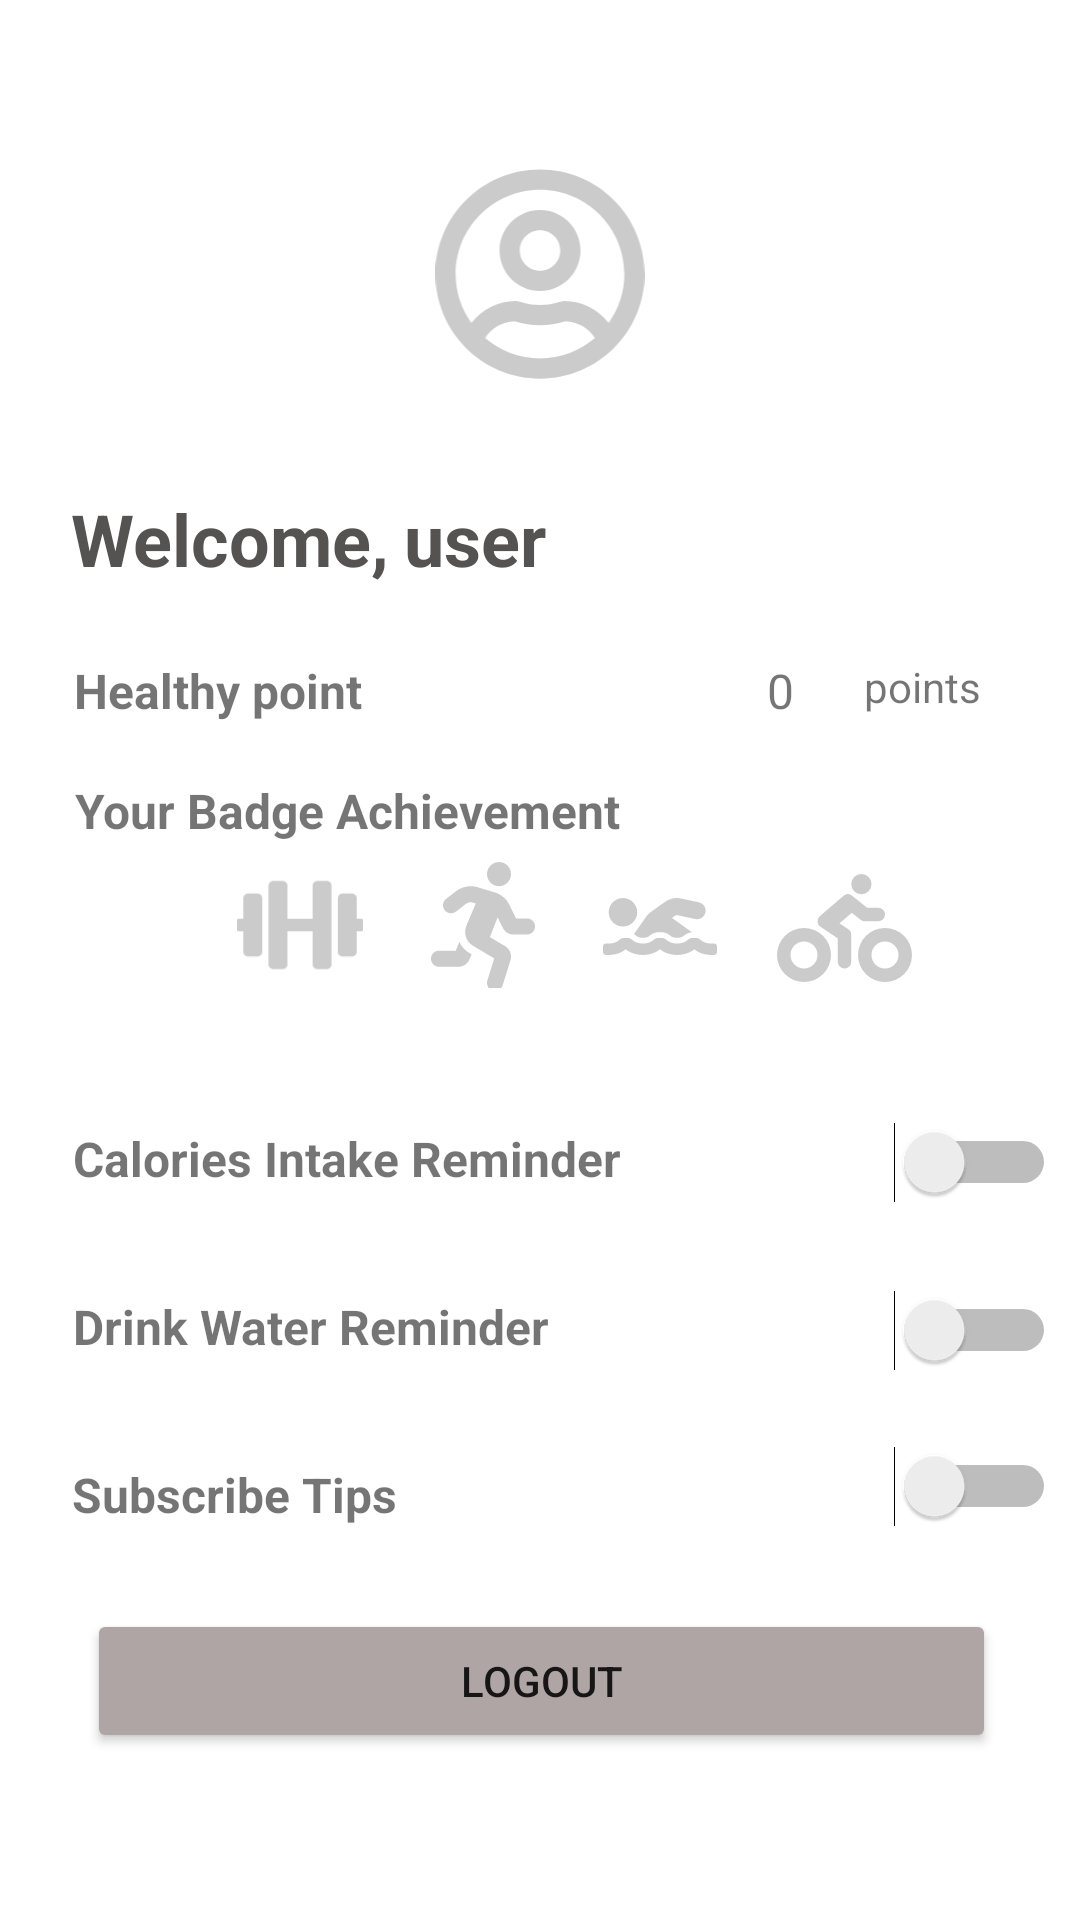

Icons on this 1080 x 1920 Android screen, each with the point to tap as (x,y):
biking badge: (844,928)
exerciseking badge: (300,925)
runner badge: (483,925)
swimmer badge: (660,926)
